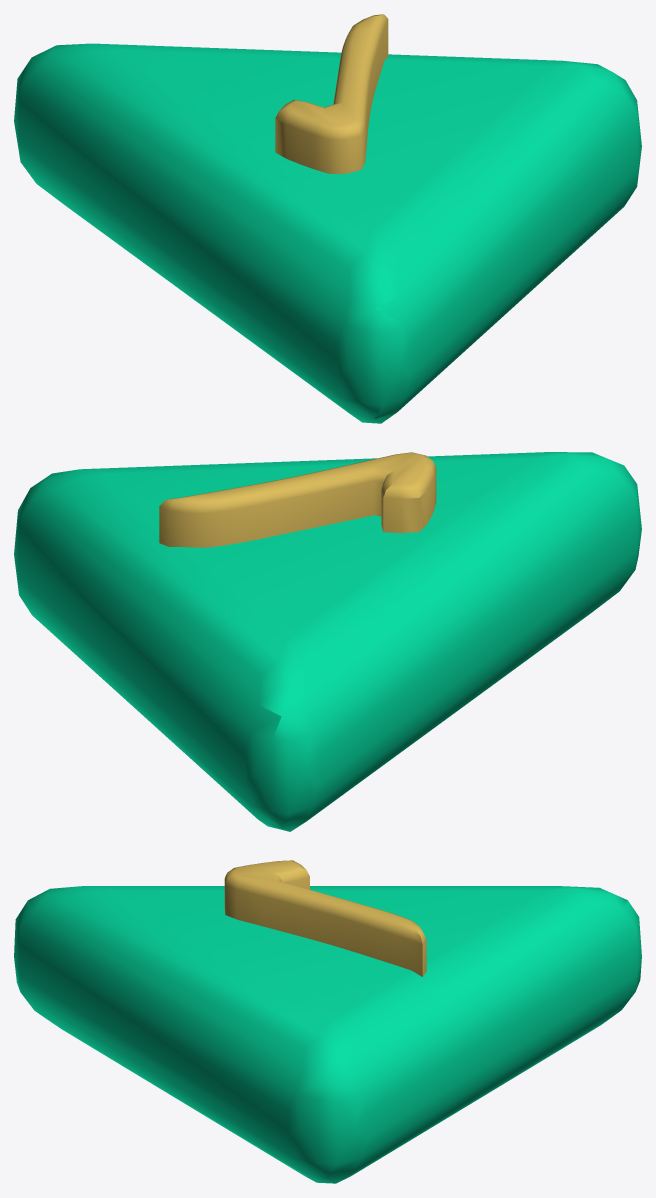
File: yes.fbx
3 views of the same model, one above another, from view 1: azimuth 30°, elevation 25°; view 2: azimuth 150°, elevation 25°; view 3: azimuth 270°, elevation 25° (orthographic). The views are drawn at different scales.
Visible parts, largest first — view 1: transform5; view 2: transform5; view 3: transform5.
Boxes of the visible parts, <box> form: transform5: <box>14,14,641,423</box>; transform5: <box>14,452,641,831</box>; transform5: <box>14,860,641,1183</box>.
Bounding box in the file's own units: 1 × 0.4589 × 1.37.
